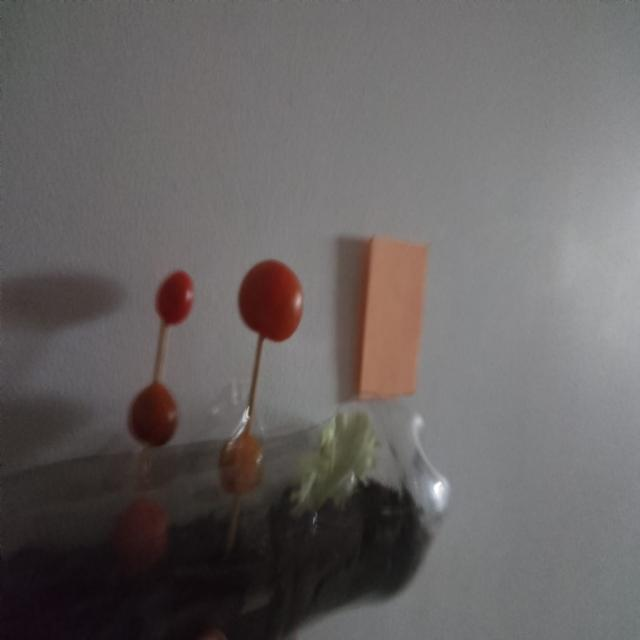card: (356, 237, 429, 397)
fruit_maturation: (219, 429, 263, 495)
fully_grown: (238, 260, 303, 342), (113, 498, 167, 572), (129, 382, 177, 446), (156, 270, 195, 326)
